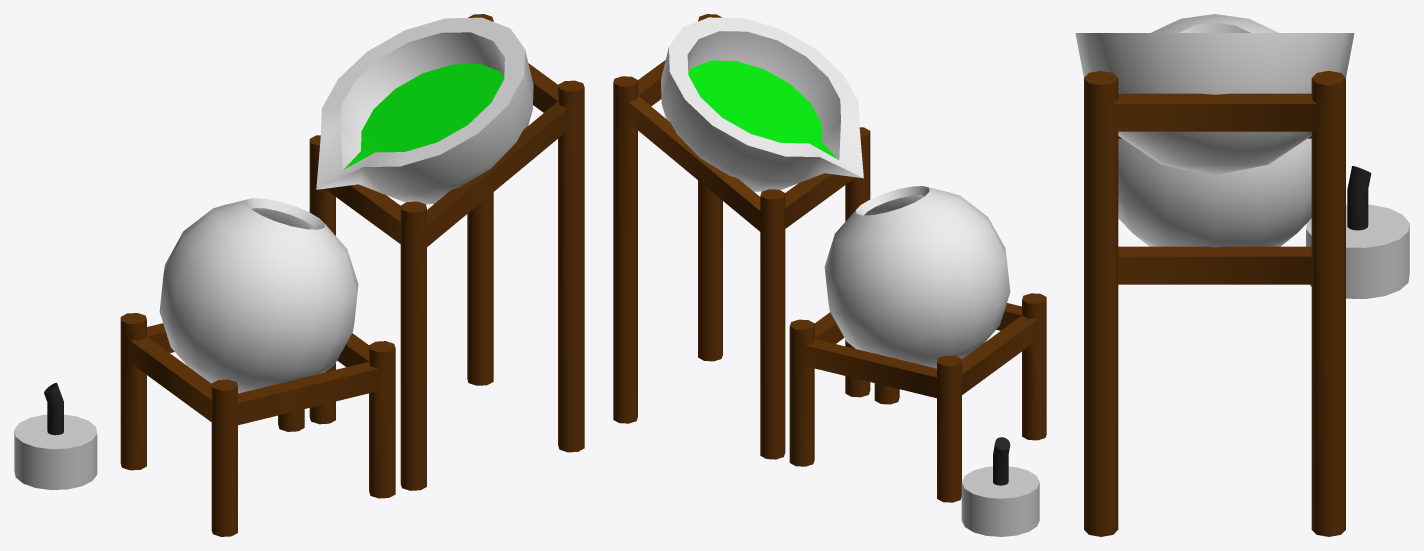
The model's file is Bombentisch.fbx.
3 views of the same model, side by side, from view 1: azimuth 30°, elevation 25°; view 2: azimuth 150°, elevation 25°; view 3: azimuth 270°, elevation 25° (orthographic). The views are drawn at different scales.
Visible parts, largest first — view 1: Holder_Sides, Bomb_Main, bowl_right_empty, holder_middle, bowl_left_full, Bomb_Lit; view 2: Holder_Sides, Bomb_Main, bowl_right_empty, holder_middle, bowl_left_full, Bomb_Lit; view 3: Holder_Sides, bowl_right_empty, Bomb_Main, holder_middle, Bomb_Lit.
Part boxes in pixels (x1,y1,x2,y2): Holder_Sides: (309,14,584,490); Bomb_Main: (159,198,358,393); bowl_right_empty: (316,17,533,204); holder_middle: (120,313,395,536); bowl_left_full: (343,64,504,169); Bomb_Lit: (14,383,97,489); Holder_Sides: (613,14,870,459); Bomb_Main: (824,186,1010,368); bowl_right_empty: (661,17,863,191); holder_middle: (789,293,1046,502); bowl_left_full: (688,60,838,159); Bomb_Lit: (961,437,1039,536); Holder_Sides: (1084,71,1345,536); bowl_right_empty: (1075,33,1354,175); Bomb_Main: (1118,14,1311,247); holder_middle: (1118,246,1311,284); Bomb_Lit: (1306,166,1409,298).
Bounding box in the file's own units: 146 × 118 × 73.33.
